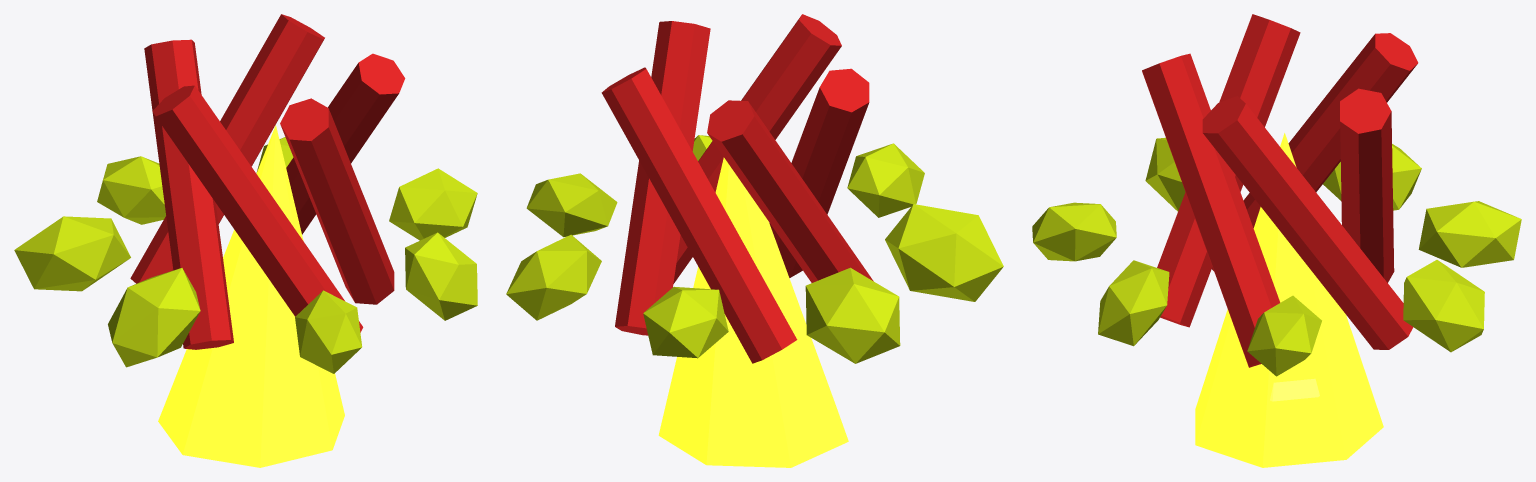
File: campfire.glb
3 views of the same model, side by side, from view 1: azimuth 30°, elevation 25°; view 2: azimuth 150°, elevation 25°; view 3: azimuth 270°, elevation 25° (orthographic). The views are drawn at different scales.
Visible parts, largest first — view 1: Campfire_Logs, Campfire_Rocks, Campfire_Flame_Outer; view 2: Campfire_Logs, Campfire_Rocks, Campfire_Flame_Outer; view 3: Campfire_Logs, Campfire_Rocks, Campfire_Flame_Outer, Campfire_Flame_Inner.
Part boxes in pixels (bbox=[...]): Campfire_Logs: bbox=[130, 14, 405, 349]; Campfire_Rocks: bbox=[14, 137, 477, 373]; Campfire_Flame_Outer: bbox=[158, 125, 344, 467]; Campfire_Logs: bbox=[601, 14, 873, 363]; Campfire_Rocks: bbox=[506, 135, 1003, 363]; Campfire_Flame_Outer: bbox=[658, 157, 848, 467]; Campfire_Logs: bbox=[1142, 14, 1418, 367]; Campfire_Rocks: bbox=[1032, 137, 1521, 376]; Campfire_Flame_Outer: bbox=[1195, 133, 1383, 467]; Campfire_Flame_Inner: bbox=[1270, 378, 1319, 401].
Bounding box in the file's own units: 1.09 × 0.9188 × 1.09.
